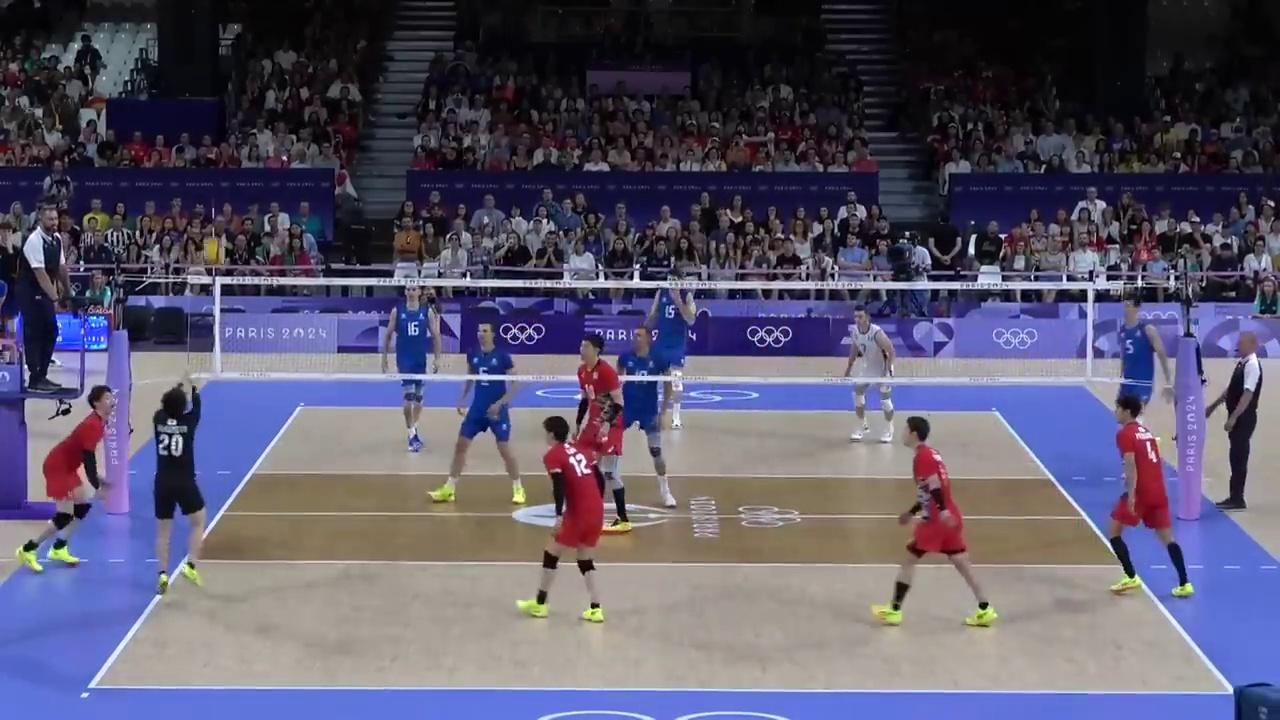ball: (206, 238, 225, 262)
